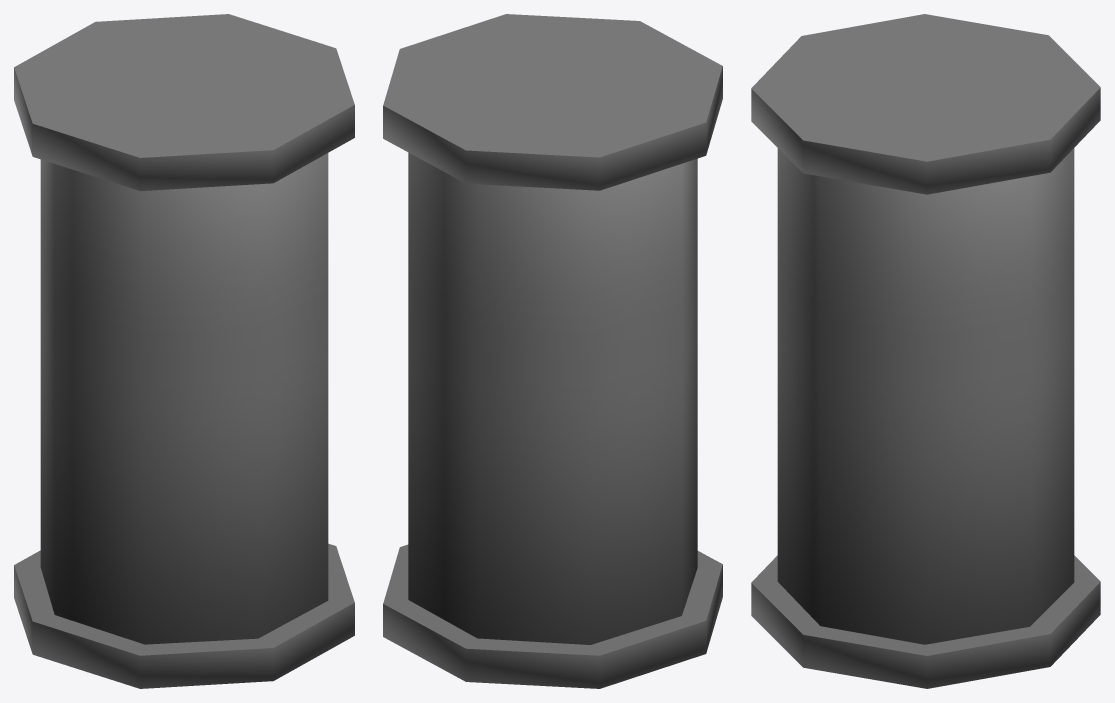
Rendered from Pipe1.glb.
3 views of the same model, side by side, from view 1: azimuth 30°, elevation 25°; view 2: azimuth 150°, elevation 25°; view 3: azimuth 270°, elevation 25° (orthographic).
Parts seen in each view (by area): view 1: Pipe1; view 2: Pipe1; view 3: Pipe1.
Boxes of the visible parts, bbox=[...] form: Pipe1: bbox=[14, 14, 354, 688]; Pipe1: bbox=[383, 14, 722, 688]; Pipe1: bbox=[751, 14, 1100, 688].
Size of the model in its own units: 0.3004 by 0.5 by 0.3004.
Materials: 1 (1 with a texture image).
